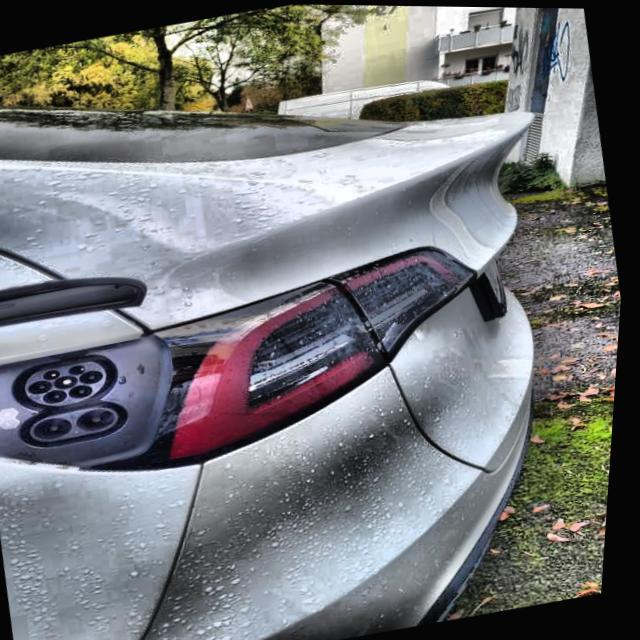inlet: (30, 361, 112, 405)
inlet-above-left: (49, 370, 65, 380)
inlet-above-right: (74, 365, 90, 375)
inlet-below-left: (49, 390, 73, 404)
inlet-below-right: (74, 385, 98, 399)
inlet-center: (59, 375, 83, 389)
inlet-center-left: (34, 380, 58, 394)
inlet-center-right: (84, 370, 109, 384)
